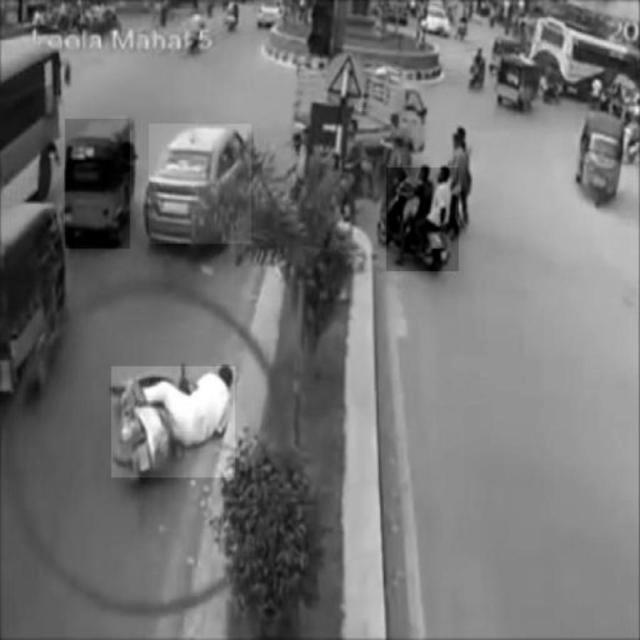vehicle: (111, 366, 235, 477), (149, 124, 251, 244), (65, 119, 129, 249), (387, 168, 459, 271)
